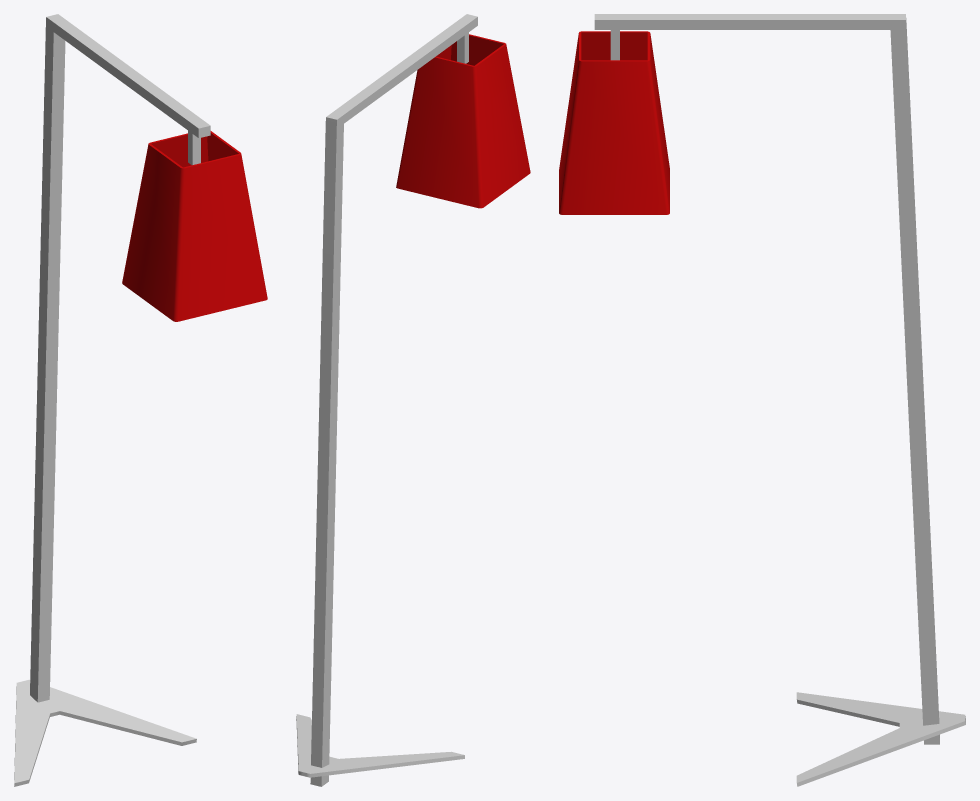
Rendered from Lampe_T.fbx.
3 views of the same model, side by side, from view 1: azimuth 30°, elevation 25°; view 2: azimuth 150°, elevation 25°; view 3: azimuth 270°, elevation 25° (orthographic). The views are drawn at different scales.
Visible parts, largest first — view 1: Lamp_v2; view 2: Lamp_v2; view 3: Lamp_v2.
Boxes of the visible parts, left/top/right/bottom form: Lamp_v2: left=14, top=14, right=267, bottom=786; Lamp_v2: left=296, top=14, right=530, bottom=786; Lamp_v2: left=559, top=14, right=965, bottom=786.
Size of the model in its own units: 53.26 by 198 by 101.
